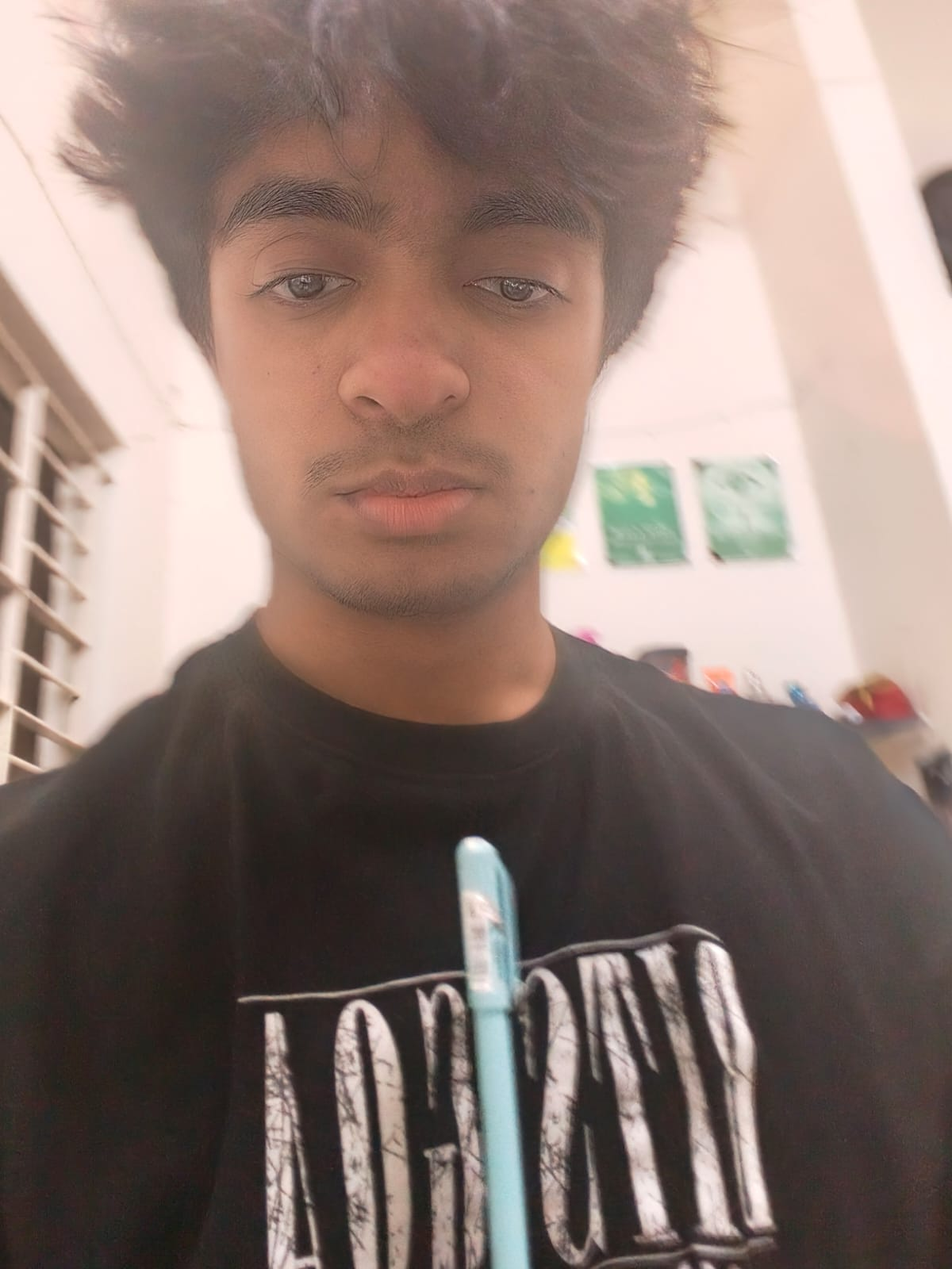pen: (383, 801, 593, 1256)
